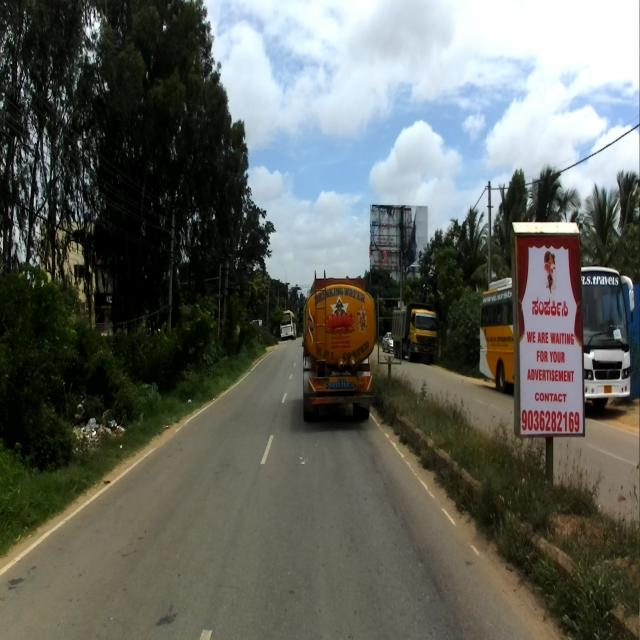bus: (478, 265, 634, 415)
truck: (300, 274, 376, 425), (393, 296, 439, 364)
